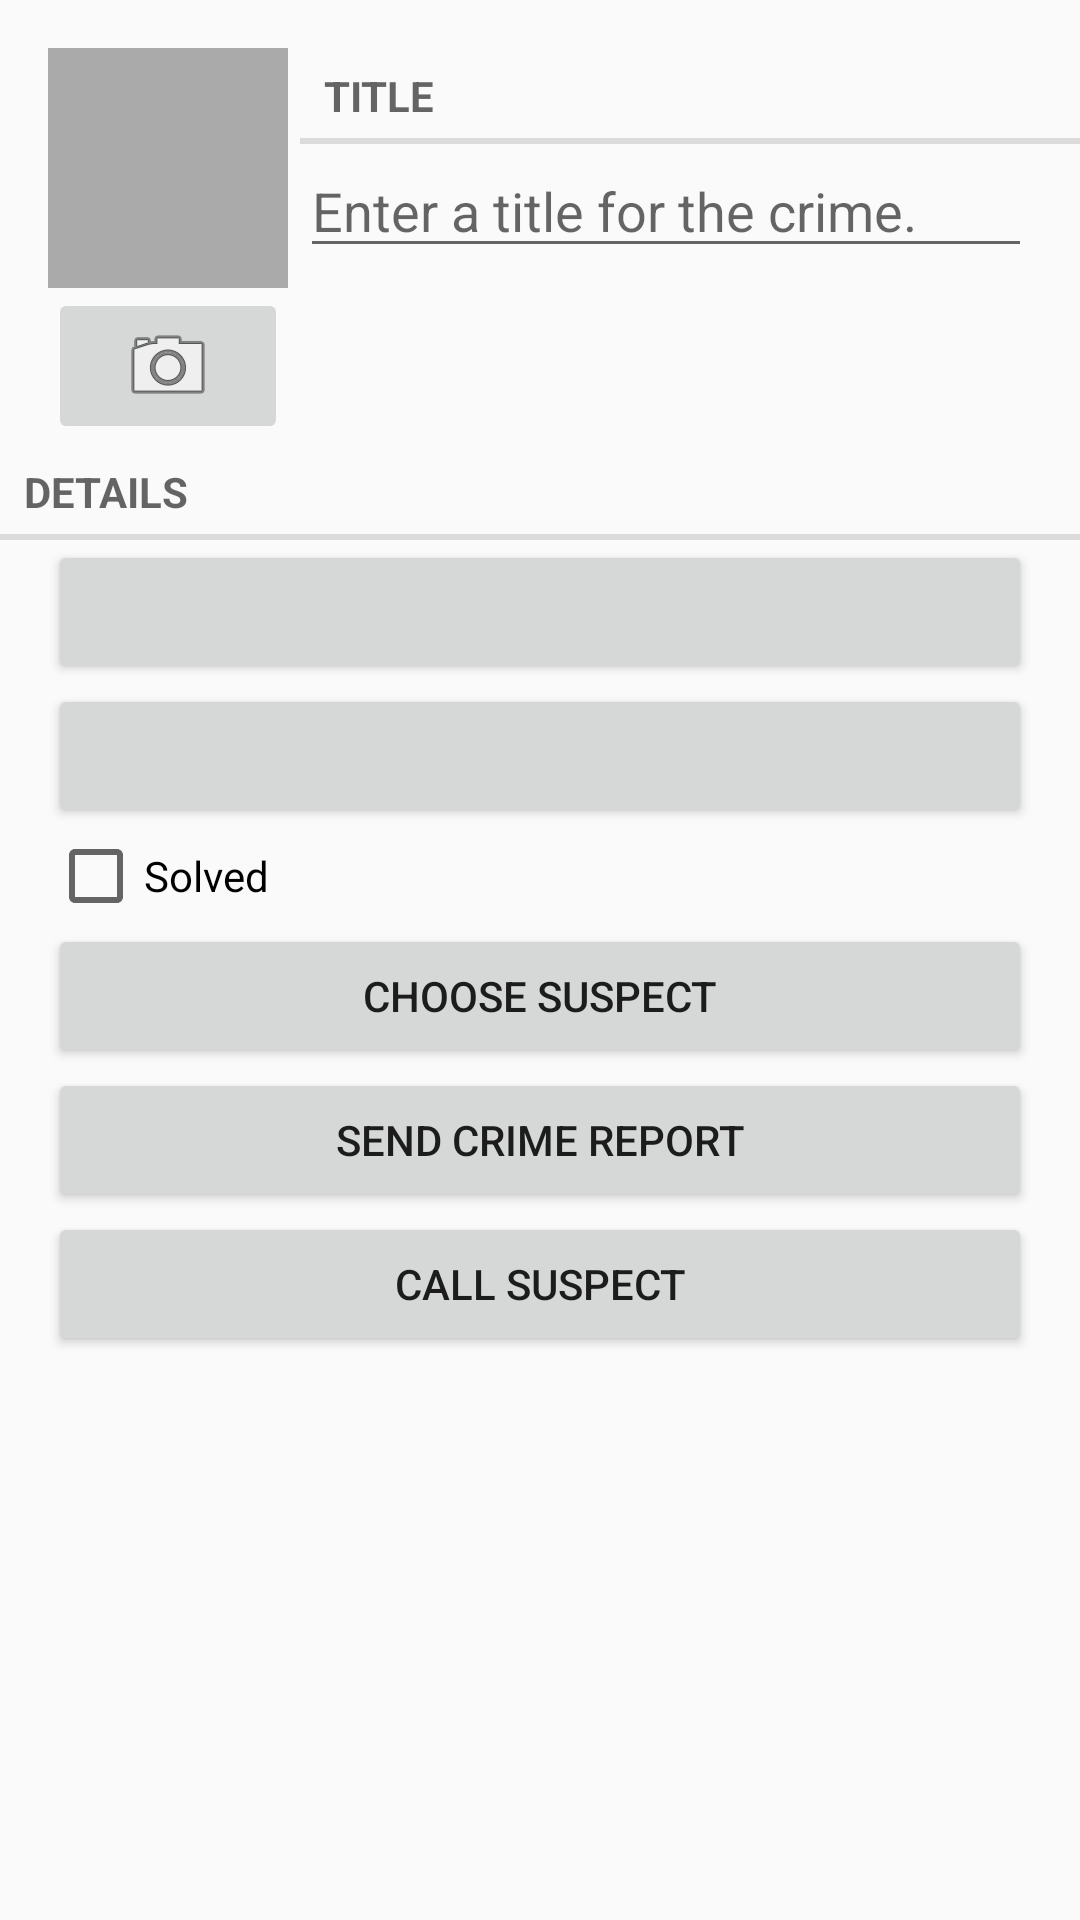

Locate icon controls on the screen. Image size 1080*1920, boxes as (x1=x1, y1=y1, x2=x2, y2=y2).
camera: (x1=60, y1=306, x2=276, y2=426)
